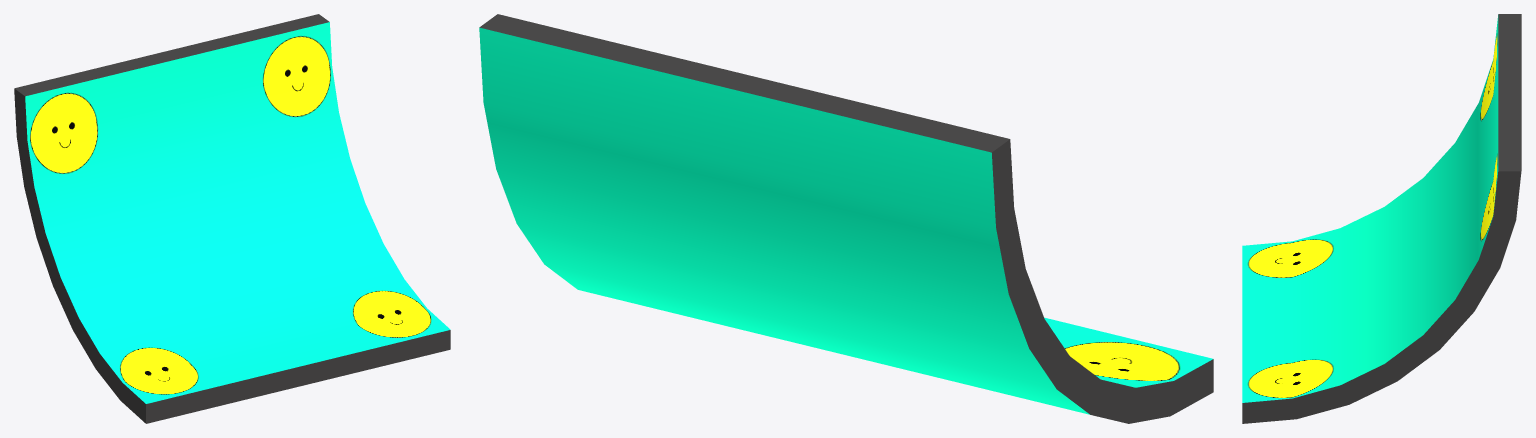
File: cocobay_quarter_circle.gltf
3 renders of one model, left to right at view 1: azimuth 30°, elevation 25°; view 2: azimuth 150°, elevation 25°; view 3: azimuth 270°, elevation 25°, orthographic. The views are drawn at different scales.
Parts seen in each view (by area): view 1: cocobay_quarter_circle_glb; view 2: cocobay_quarter_circle_glb; view 3: cocobay_quarter_circle_glb.
Part boxes in pixels (left/top/right/bottom): cocobay_quarter_circle_glb: left=14, top=14, right=450, bottom=423; cocobay_quarter_circle_glb: left=479, top=14, right=1213, bottom=423; cocobay_quarter_circle_glb: left=1242, top=14, right=1521, bottom=423.
Size of what is drawn, in the model's own units: 4 by 3 by 3.
1 material, 1 textured.
